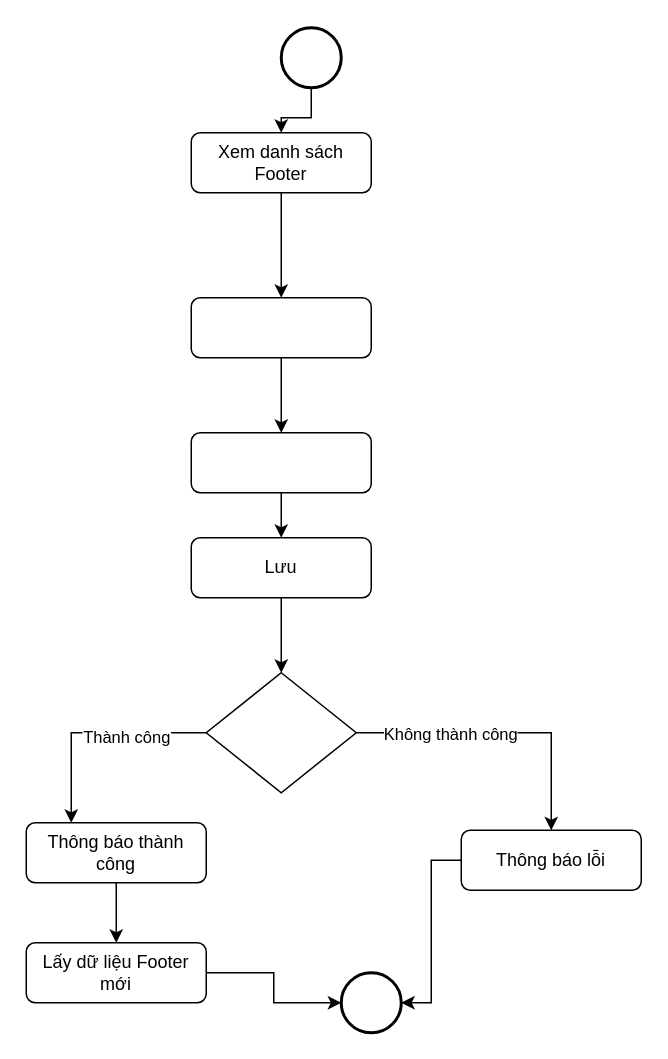
This 668x1059 diagram has some shape labels left out. The shapes that lost their labels are listed below. From the top down, each one's centre as x and y in pixels, then its label:
At point 280,327: "Thêm mới / cập nhật Footer".
At point 280,462: "Nhập dữ liệu".
